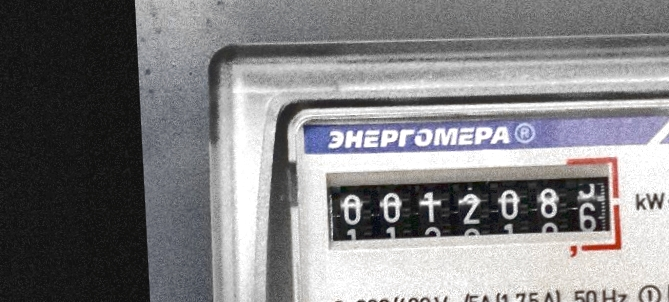0: (496, 184, 523, 221), (379, 186, 404, 224), (341, 188, 363, 226)
1: (420, 187, 439, 224)
2: (457, 189, 485, 226)
6: (575, 196, 599, 233)
8: (535, 183, 560, 221)
screen: (315, 145, 632, 279)
